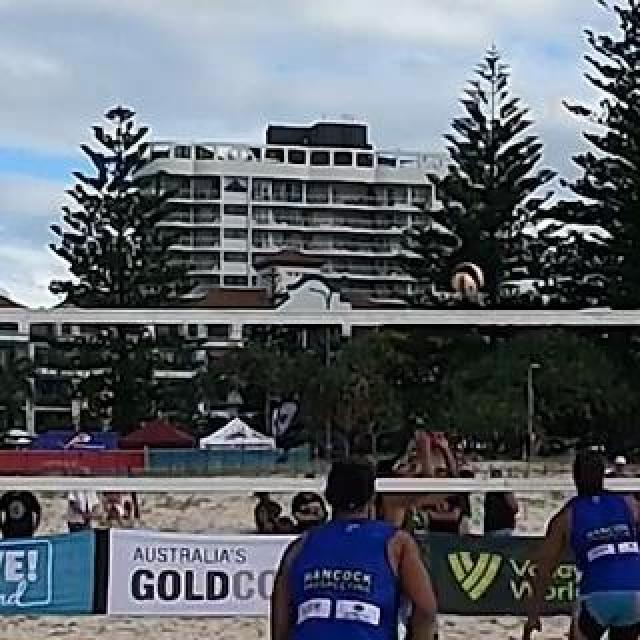volleyball: (454, 262, 484, 300)
